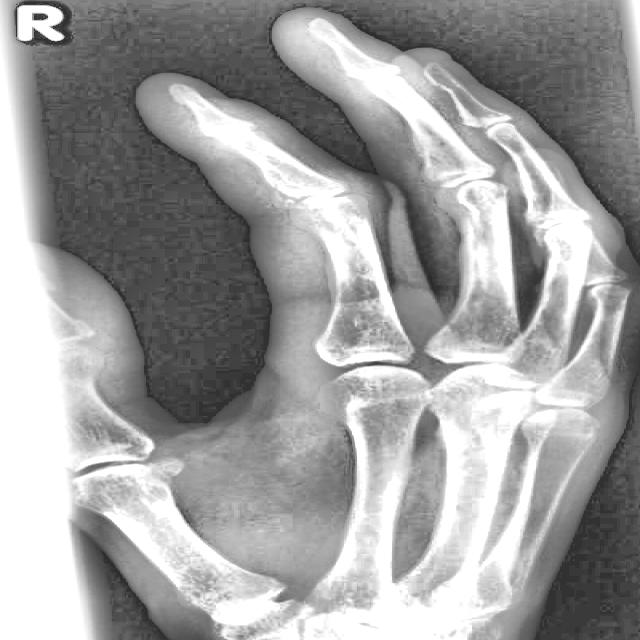fracture: (229, 576, 296, 622)
